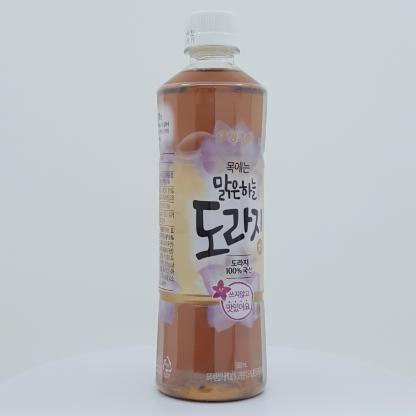------------500ML: (155, 9, 268, 403)
